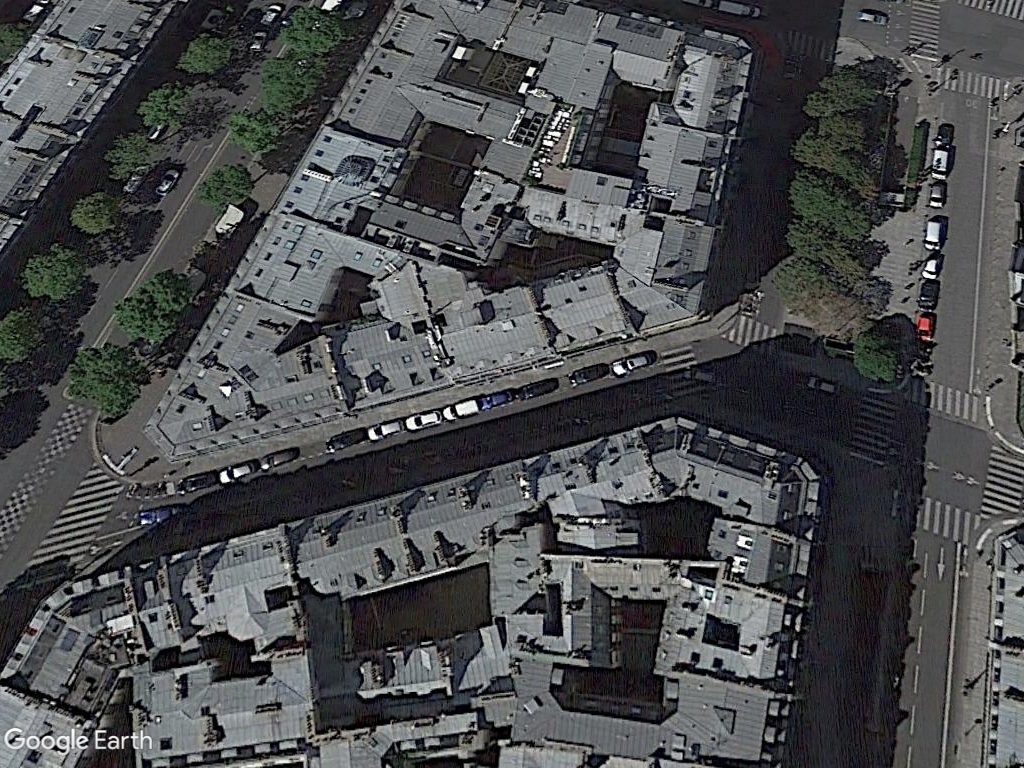car: (605, 350, 655, 378), (212, 459, 260, 488), (563, 360, 610, 389), (256, 446, 301, 474), (513, 377, 563, 402), (178, 470, 221, 498), (153, 162, 183, 200), (361, 416, 403, 443), (403, 409, 446, 435), (917, 250, 945, 282), (478, 384, 516, 407), (923, 217, 944, 254), (915, 274, 936, 311), (930, 145, 950, 183), (915, 310, 935, 346)
van: (439, 395, 484, 425)
